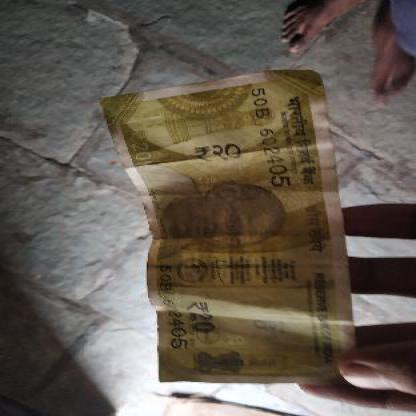New20Front: (140, 81, 332, 382)
